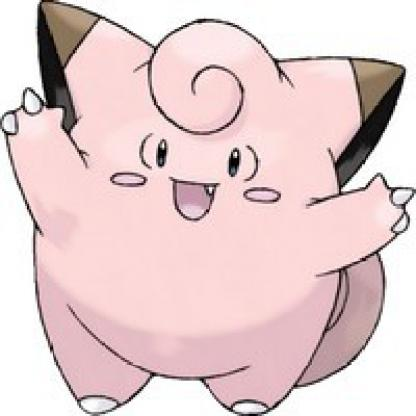Clefairy: (1, 1, 415, 415)
